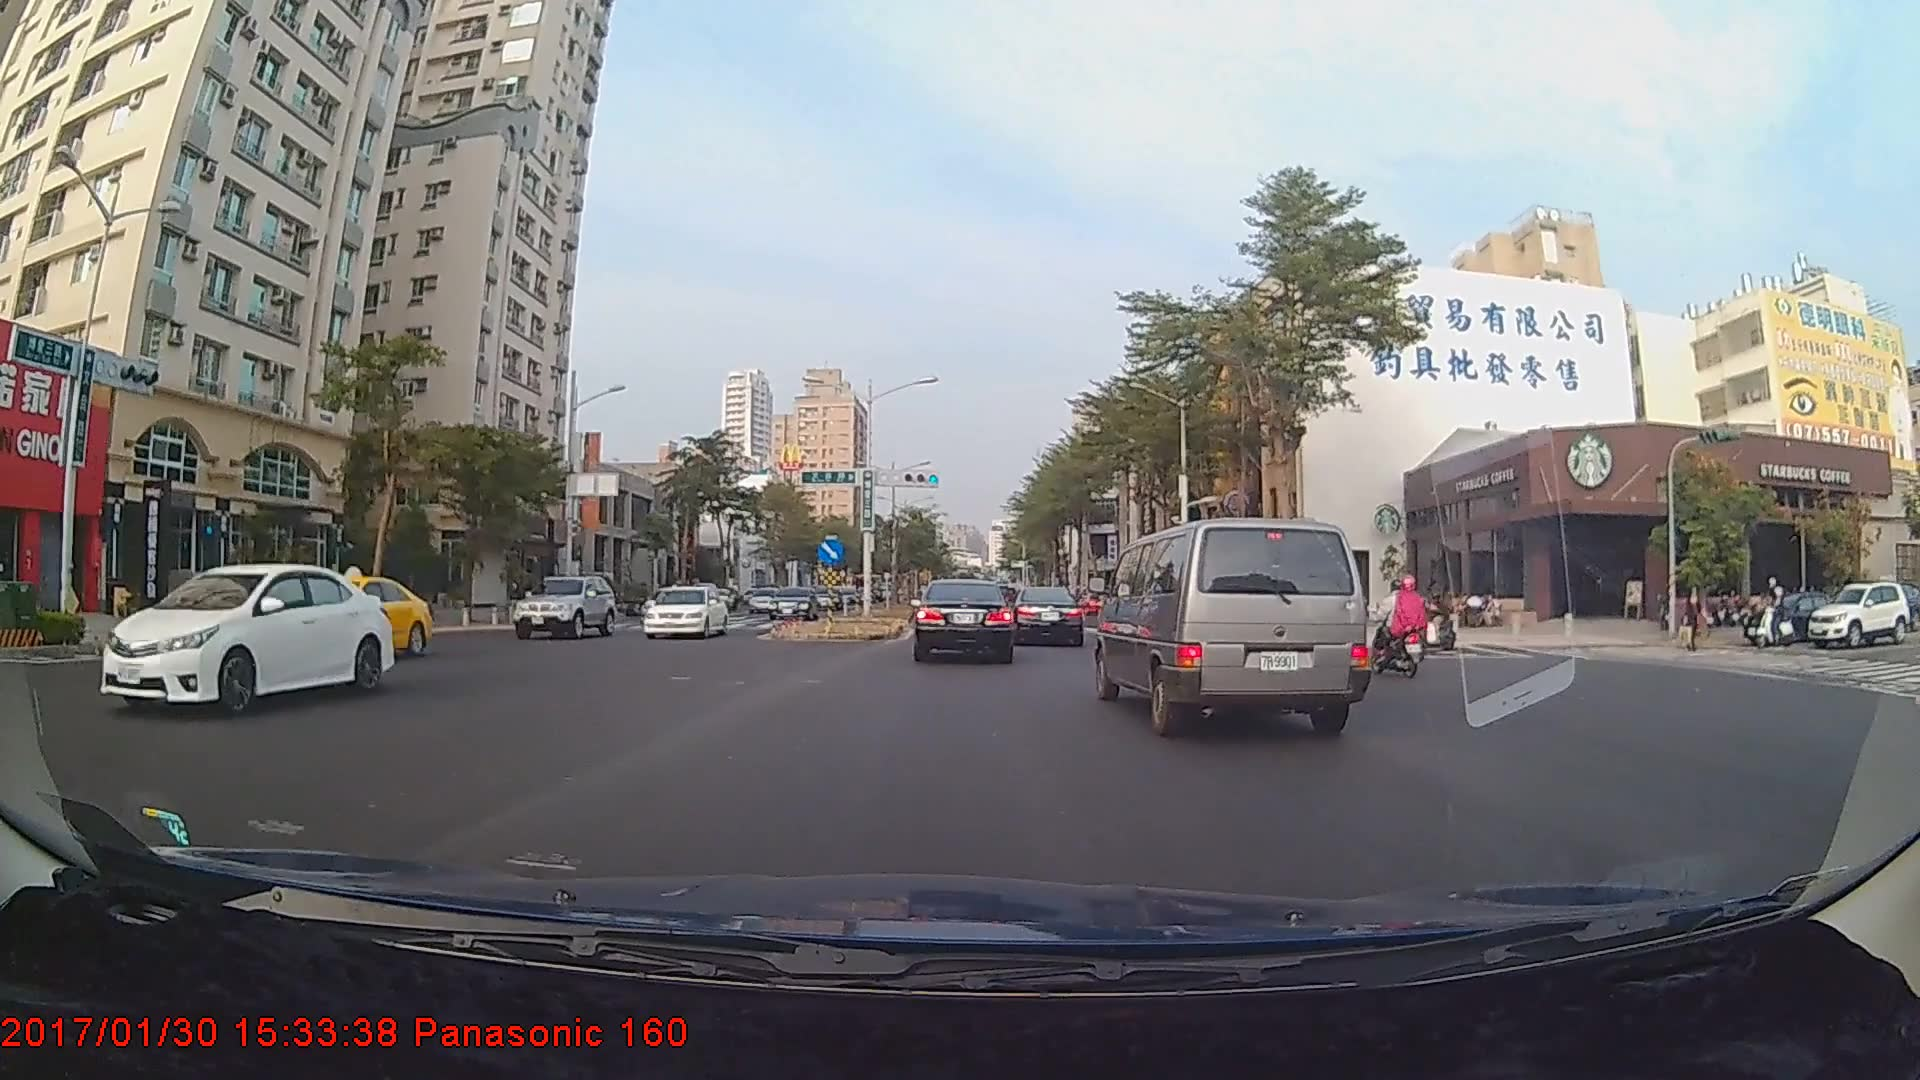pedestrian: (1684, 585, 1704, 651)
rider: (1366, 572, 1437, 675), (1750, 581, 1798, 650)
vehicle: (1101, 511, 1366, 737), (95, 560, 394, 713), (262, 575, 432, 655), (913, 577, 1016, 663), (509, 569, 610, 637), (1805, 584, 1913, 644), (638, 583, 727, 638), (1012, 584, 1085, 646), (763, 585, 819, 619)
